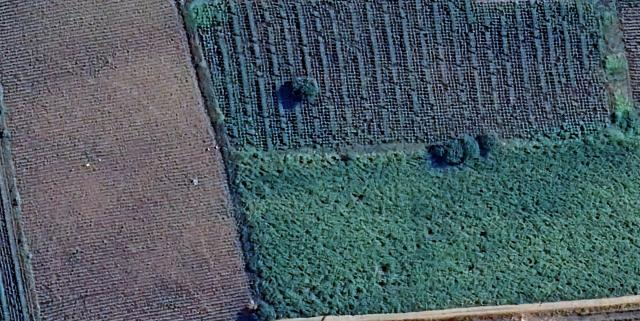Farms: (0, 1, 258, 321), (223, 135, 640, 321), (183, 1, 632, 150)
